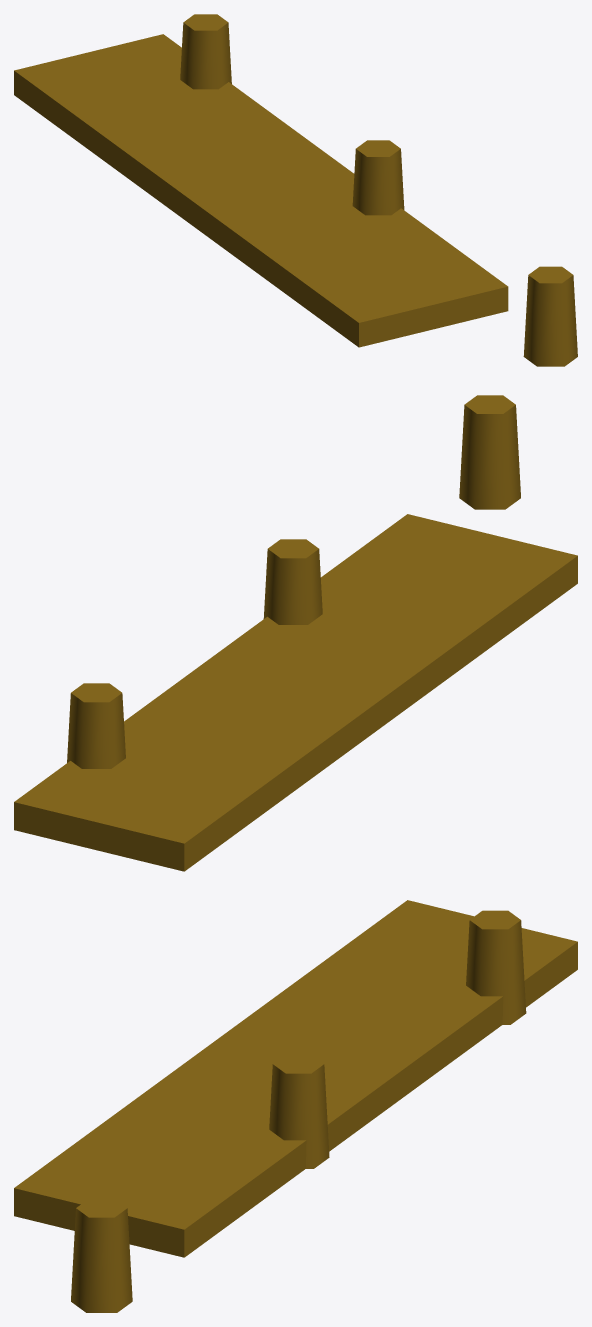
The model's file is dock_t1.glb.
The picture shows the model from 3 angles, top to bottom: view 1: azimuth 30°, elevation 25°; view 2: azimuth 150°, elevation 25°; view 3: azimuth 330°, elevation 25°; orthographic projection. The views are drawn at different scales.
Visible parts, largest first — view 1: building-dock; view 2: building-dock; view 3: building-dock.
Boxes of the visible parts, x1,y1,x2,y2 form: building-dock: (14,14,577,366); building-dock: (14,395,577,871); building-dock: (14,900,577,1312).
Size of the model in its own units: 0.0395 by 0.02 by 0.1841.
